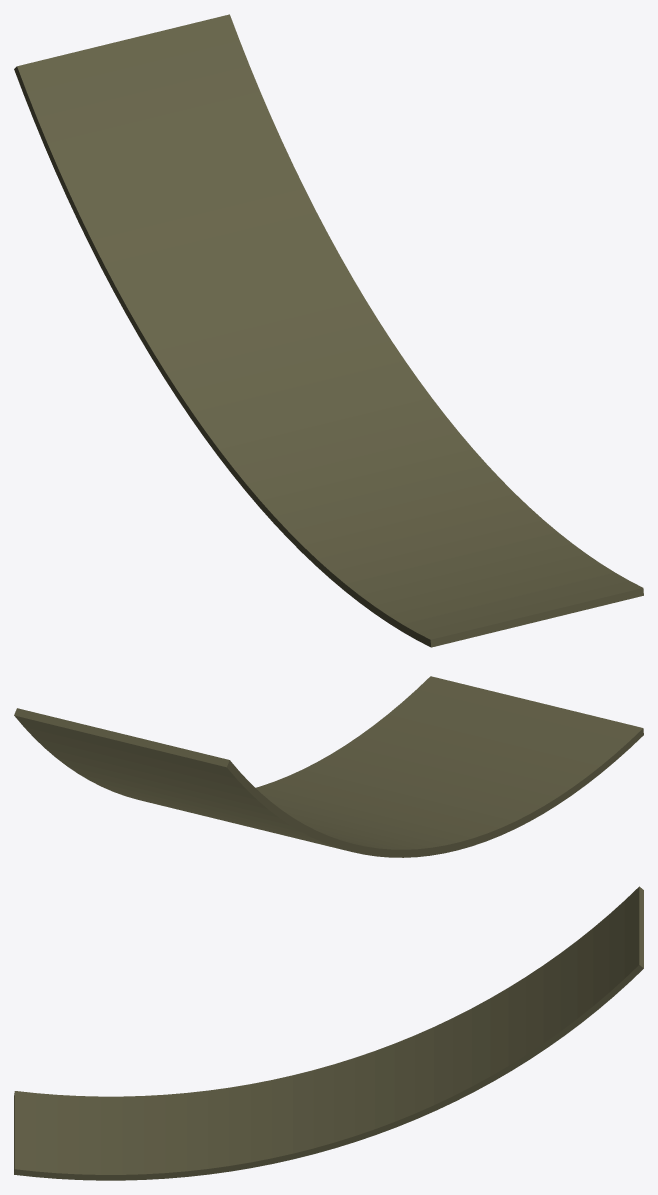
The model's file is Road_03_Bend_03.fbx.
3 views of the same model, one above another, from view 1: azimuth 30°, elevation 25°; view 2: azimuth 150°, elevation 25°; view 3: azimuth 270°, elevation 25° (orthographic). The views are drawn at different scales.
Parts seen in each view (by area): view 1: Road_03_Bend_03; view 2: Road_03_Bend_03; view 3: Road_03_Bend_03.
Boxes of the visible parts, x1,y1,x2,y2 form: Road_03_Bend_03: (14, 14, 643, 647); Road_03_Bend_03: (14, 676, 643, 857); Road_03_Bend_03: (14, 886, 643, 1180).
Bounding box in the file's own units: 164 × 211 × 557.
